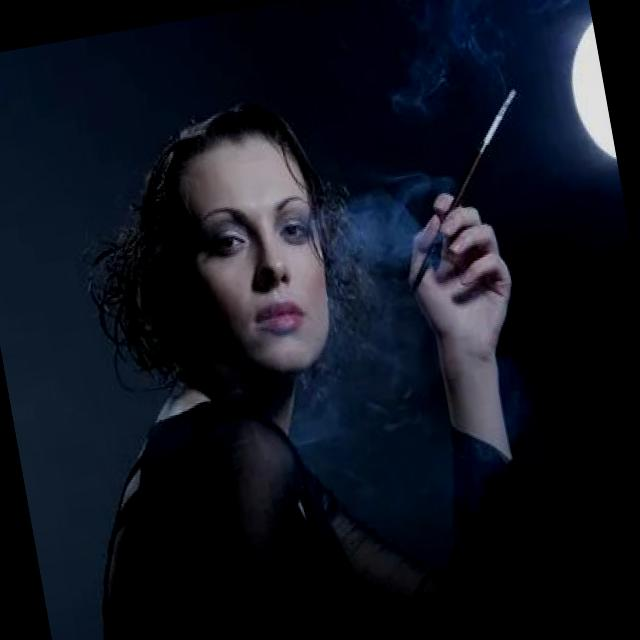smoke: (376, 82, 553, 296)
